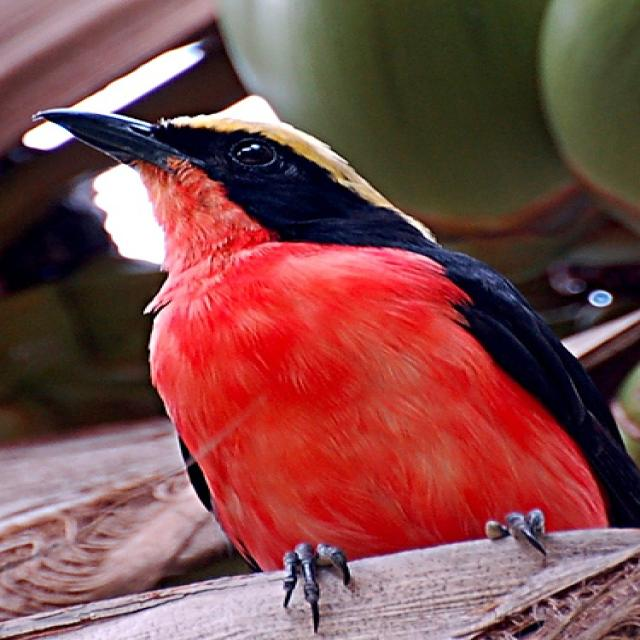bird: (29, 94, 640, 636)
